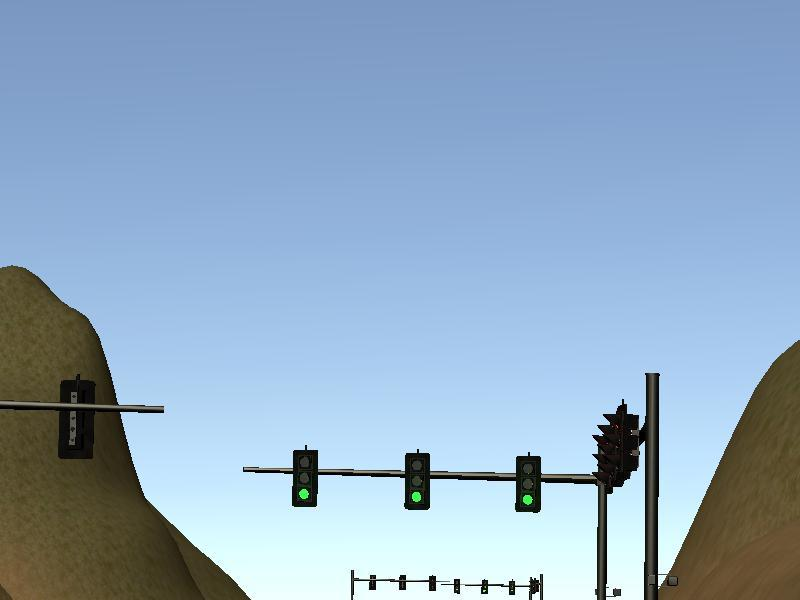Green: (516, 455, 542, 514), (294, 449, 318, 507), (405, 454, 429, 509)
